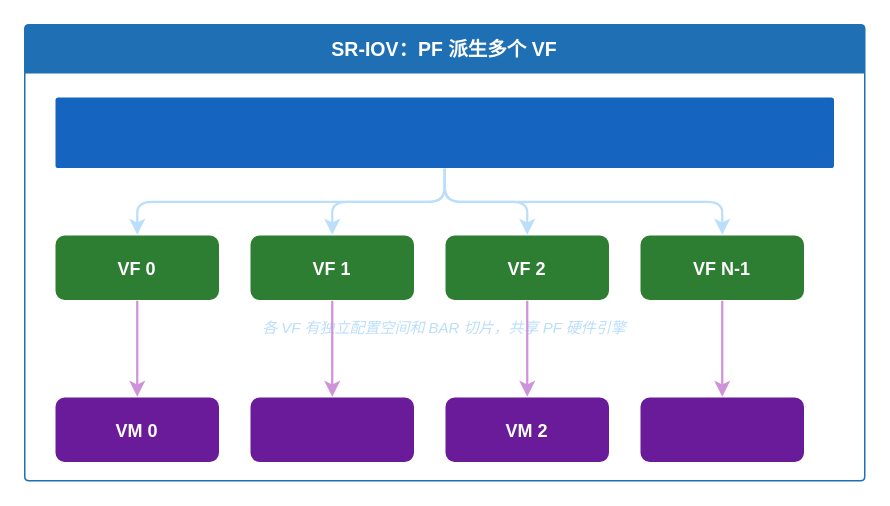
Some shapes in this 890 by 506 pixel diagram are drawn without their labels. Each missing label, with the centre of its shape:
"PF — Physical Function（完整管理权，归 Hypervisor 控制）" goes at point (444, 132).
"VM 1" goes at point (331, 429).
"VM N-1" goes at point (721, 429).
